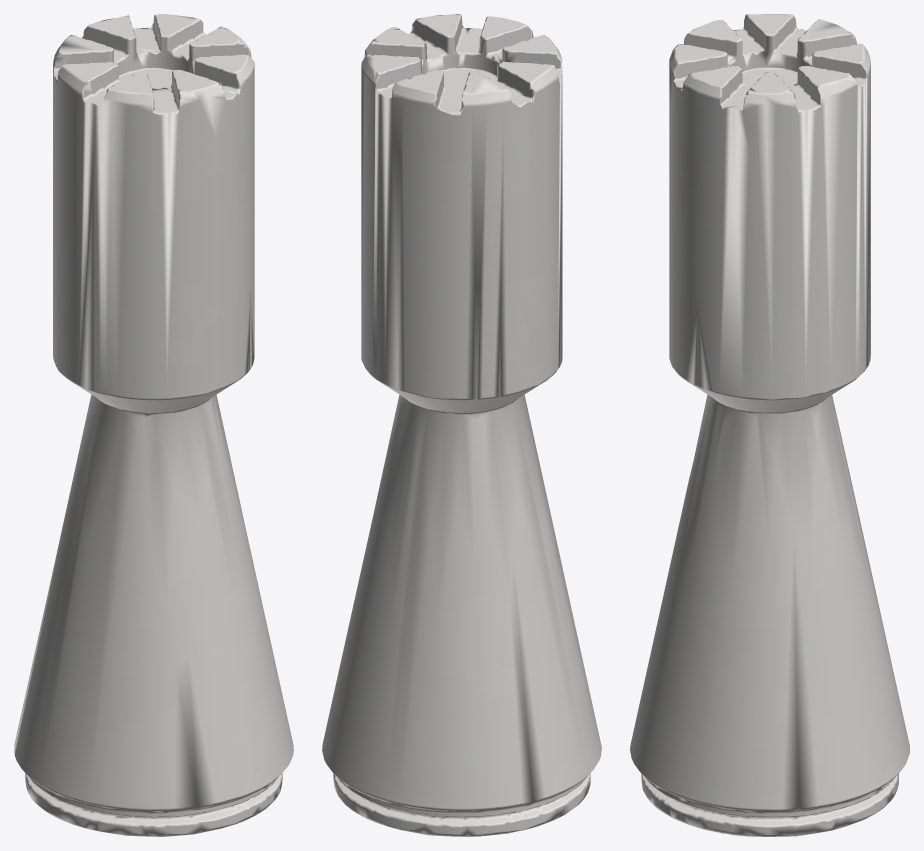
Rendered from king-white.glb.
3 views of the same model, side by side, from view 1: azimuth 30°, elevation 25°; view 2: azimuth 150°, elevation 25°; view 3: azimuth 270°, elevation 25° (orthographic).
Parts seen in each view (by area): view 1: 01_kral_bila; view 2: 01_kral_bila; view 3: 01_kral_bila.
Boxes of the visible parts, x1,y1,x2,y2 form: 01_kral_bila: (14, 14, 293, 836); 01_kral_bila: (322, 14, 601, 836); 01_kral_bila: (630, 14, 909, 836).
Bounding box in the file's own units: 0.5731 × 1.65 × 0.5727.
Materials: 1 (1 with a texture image).
